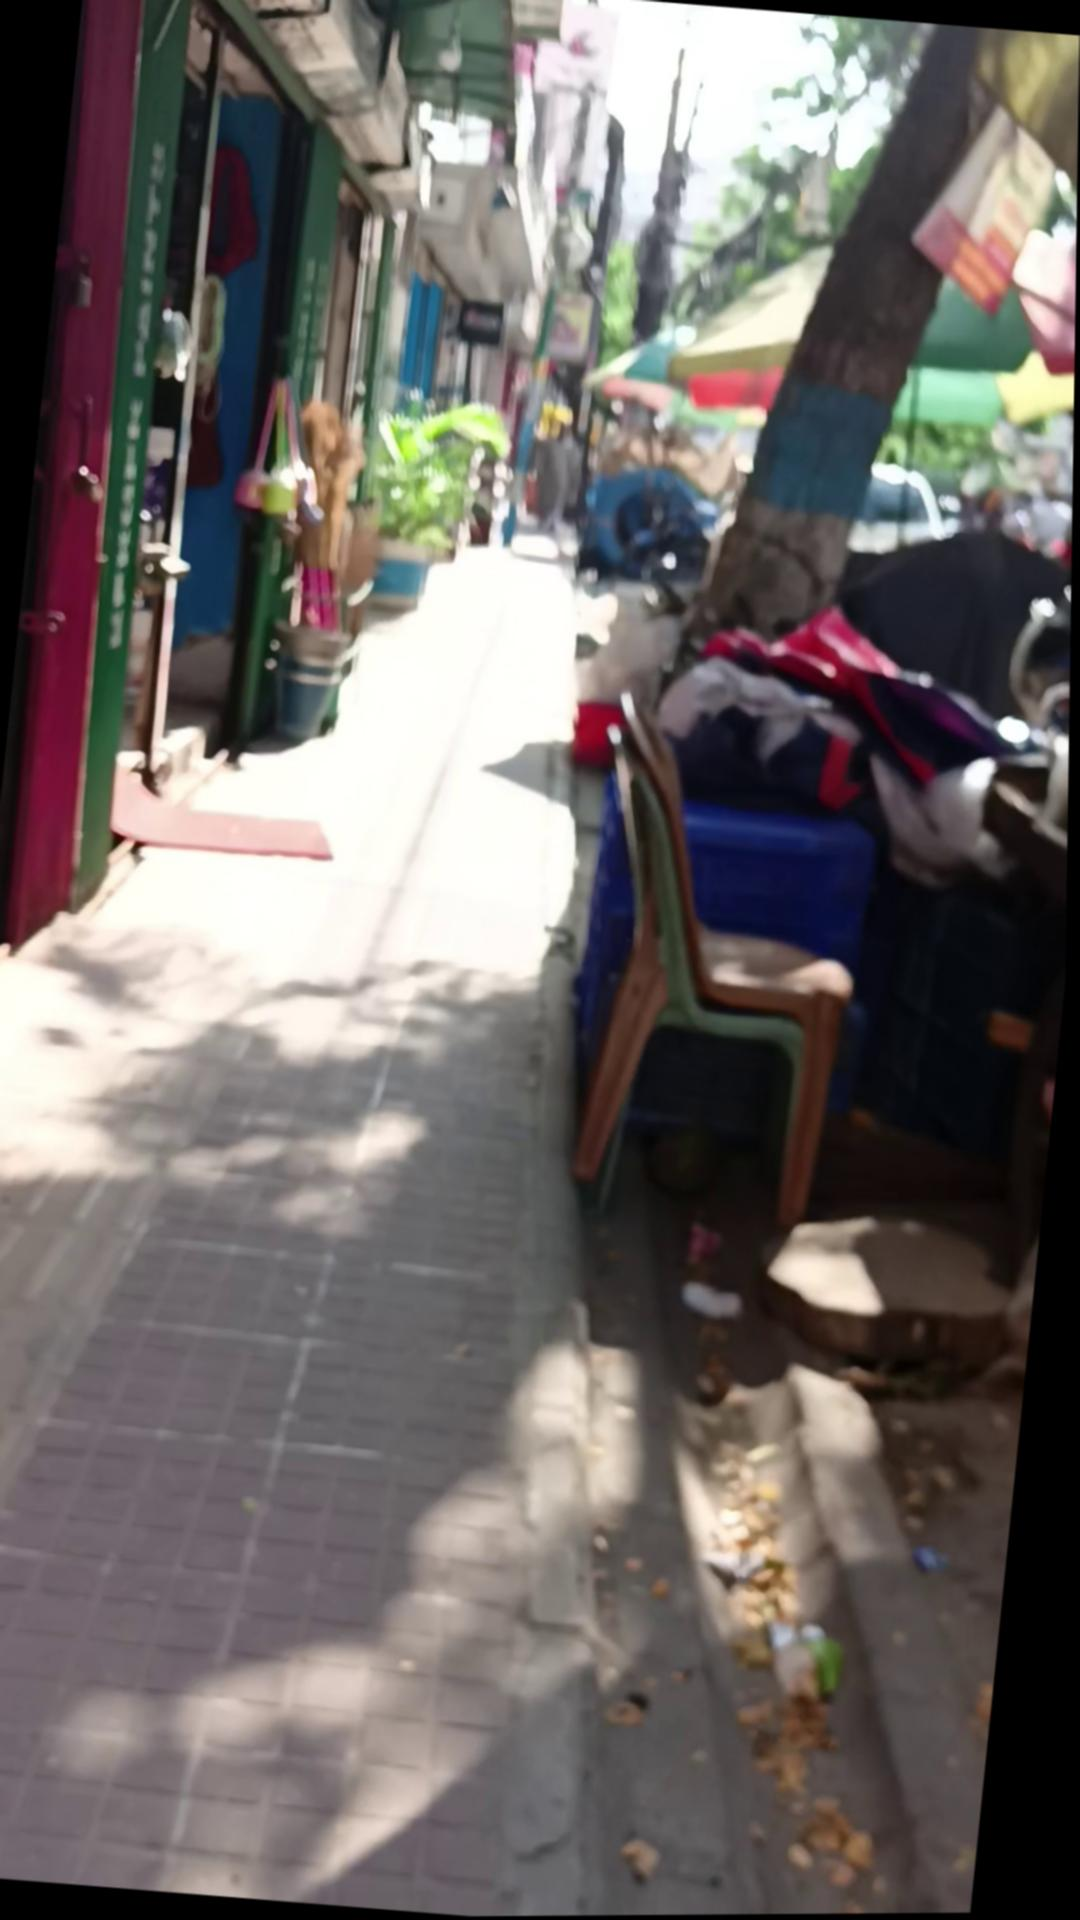Animal: (553, 688, 886, 1238)
Broken-road: (484, 915, 1067, 1917), (107, 694, 244, 857)
Crosswalk: (748, 1197, 1026, 1386)
Fallen-tree: (353, 385, 517, 620)
Garbage: (0, 534, 909, 1920)
